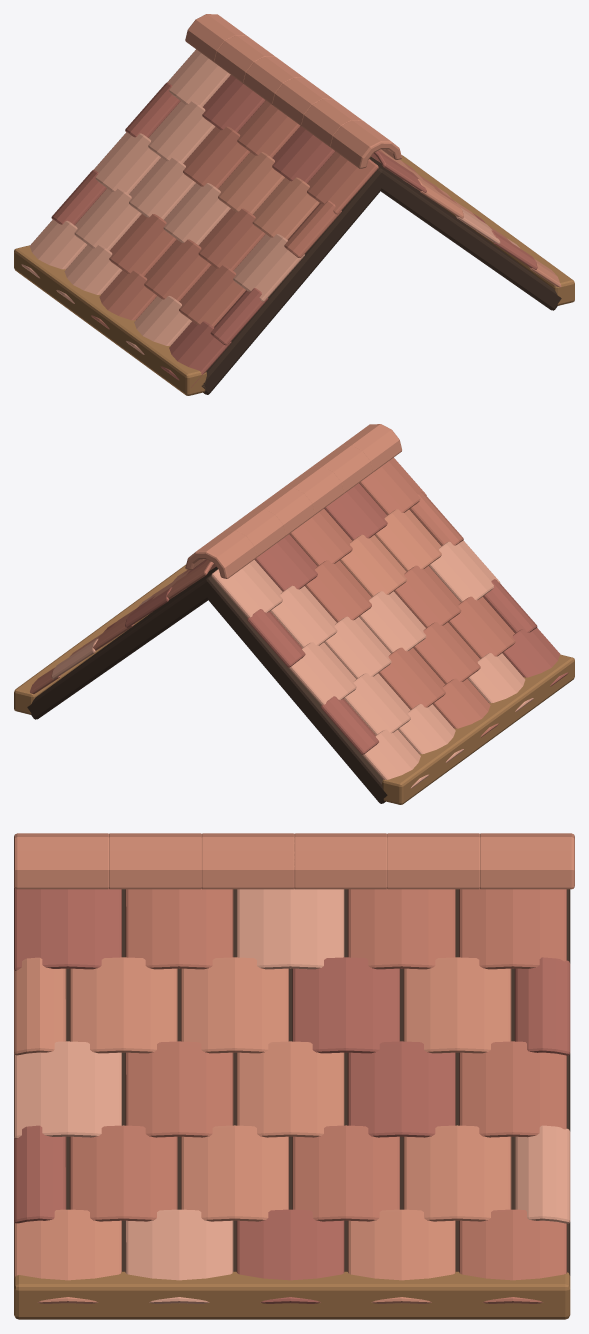
File: roof_gable_2x2m.glb
3 views of the same model, one above another, from view 1: azimuth 30°, elevation 25°; view 2: azimuth 150°, elevation 25°; view 3: azimuth 270°, elevation 25° (orthographic). The views are drawn at different scales.
Visible parts, largest first — view 1: roof_gable_2x2m__finish, roof_gable_2x2m__structure; view 2: roof_gable_2x2m__finish, roof_gable_2x2m__structure; view 3: roof_gable_2x2m__finish, roof_gable_2x2m__structure.
Part boxes in pixels (<box>): roof_gable_2x2m__finish: <box>21,14,561,387</box>; roof_gable_2x2m__structure: <box>14,155,574,395</box>; roof_gable_2x2m__finish: <box>30,424,568,788</box>; roof_gable_2x2m__structure: <box>14,564,574,804</box>; roof_gable_2x2m__finish: <box>14,833,574,1303</box>; roof_gable_2x2m__structure: <box>14,889,570,1319</box>.
Bounding box in the file's own units: 2.6 × 1.34 × 2.02.
